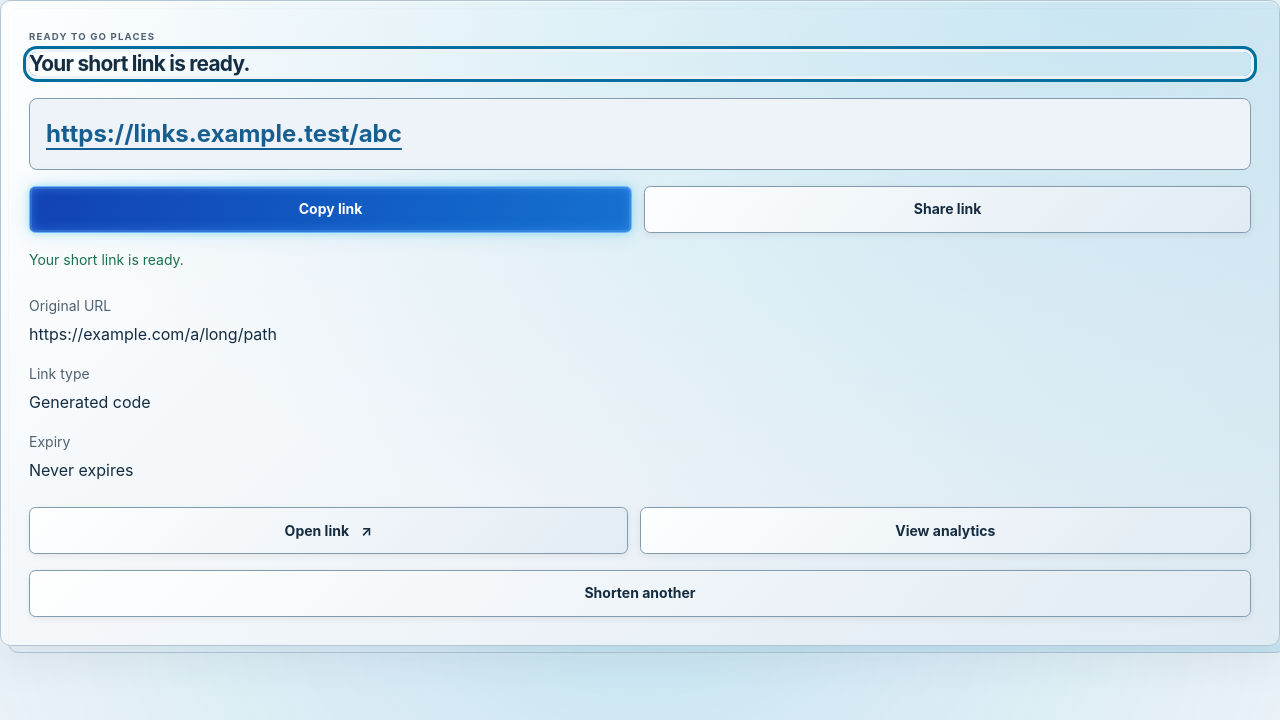
Test case: CreationResult_shareSupported_sendsOnlyShortLink
Click the button "Share link": x=948, y=210 [644, 186, 1251, 233]
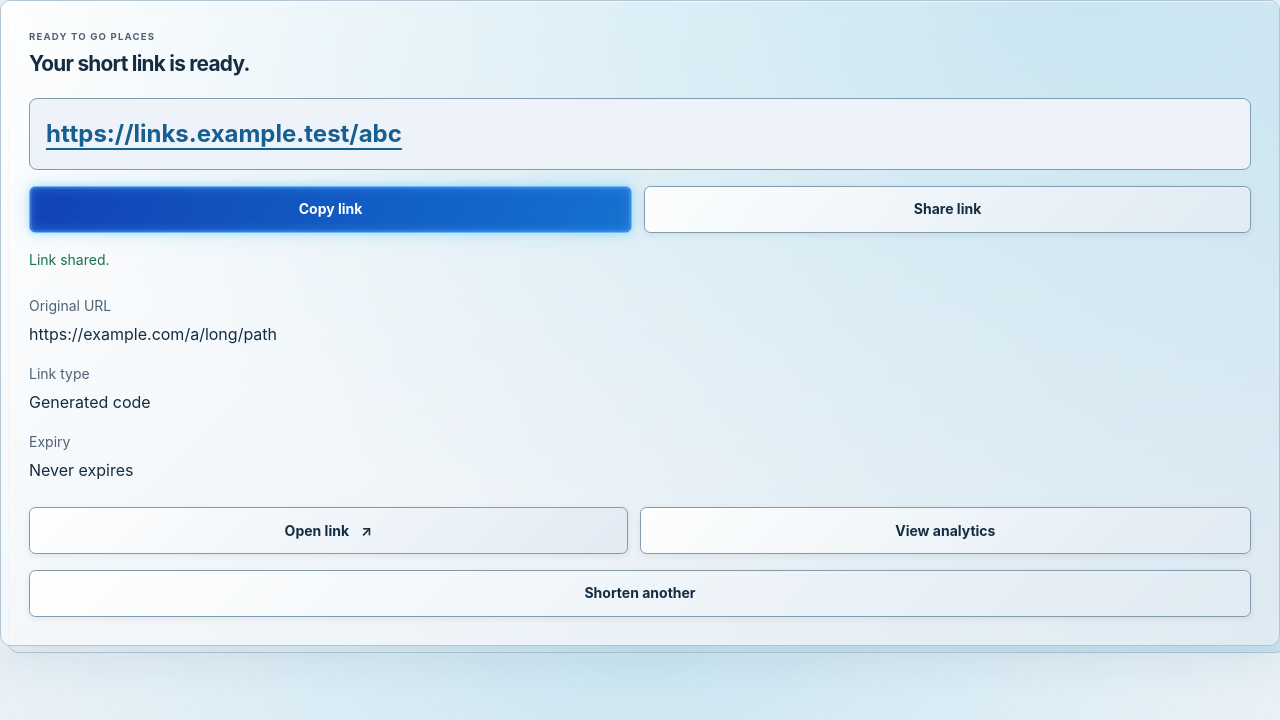
Now the message reads "Link shared.", box [29, 251, 110, 268]
